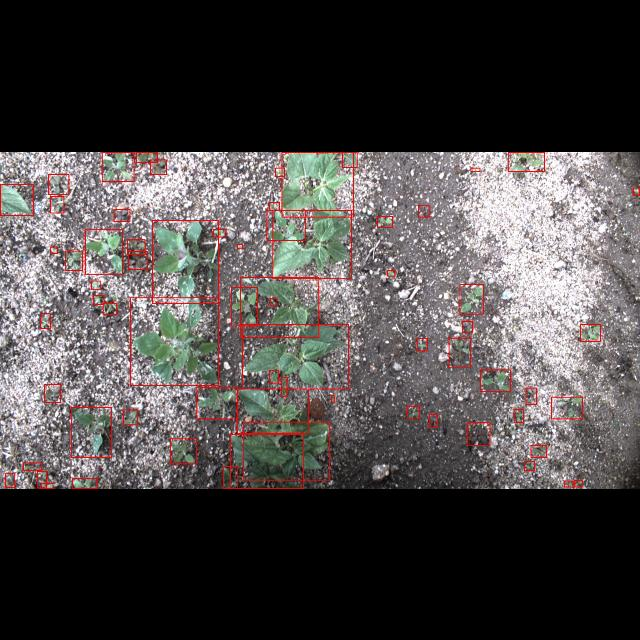crop: (242, 324, 348, 388), (272, 210, 352, 278), (242, 422, 330, 480), (240, 277, 318, 337), (282, 152, 352, 216), (230, 434, 304, 488), (238, 388, 308, 434), (1, 183, 34, 214)
weed: (130, 297, 218, 385), (152, 220, 218, 302), (71, 407, 111, 457), (85, 228, 123, 274), (196, 388, 238, 418), (267, 210, 305, 240), (231, 286, 257, 326), (102, 151, 134, 181), (460, 283, 484, 313), (170, 438, 196, 464), (480, 369, 510, 391), (552, 397, 582, 419), (508, 152, 544, 170), (450, 338, 470, 367), (468, 422, 490, 444), (49, 173, 69, 193), (128, 251, 148, 269), (222, 466, 238, 488), (580, 324, 600, 341), (66, 250, 82, 270), (44, 384, 60, 402), (72, 478, 98, 488), (150, 158, 166, 174), (128, 238, 144, 254), (50, 196, 64, 212), (122, 410, 138, 424), (342, 152, 358, 166), (136, 151, 158, 161), (531, 445, 547, 457), (114, 209, 130, 221), (37, 470, 47, 488), (103, 302, 117, 314), (526, 388, 536, 404), (378, 216, 392, 227), (23, 462, 41, 470), (407, 406, 419, 418), (40, 314, 50, 328), (5, 473, 15, 487), (514, 408, 524, 422), (418, 204, 429, 216), (417, 338, 427, 350), (94, 294, 105, 304), (462, 321, 472, 332), (214, 228, 226, 236), (270, 370, 278, 382), (429, 414, 437, 426), (525, 462, 535, 471), (91, 280, 101, 288), (269, 201, 279, 209), (282, 378, 286, 397), (276, 167, 284, 175), (575, 479, 583, 486), (41, 484, 53, 488), (387, 269, 395, 275), (270, 297, 276, 305), (633, 187, 639, 195), (565, 481, 573, 487), (51, 246, 58, 252), (470, 167, 480, 171), (331, 394, 335, 402), (238, 244, 242, 248)
